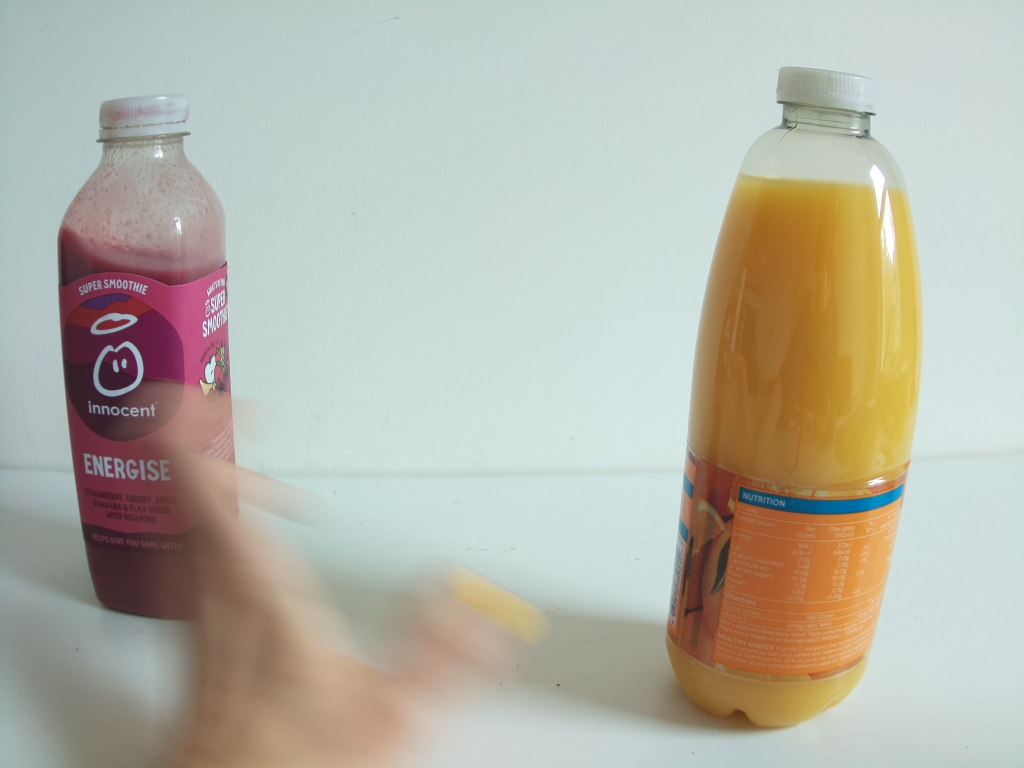juice: (670, 63, 919, 731), (56, 87, 249, 621)
